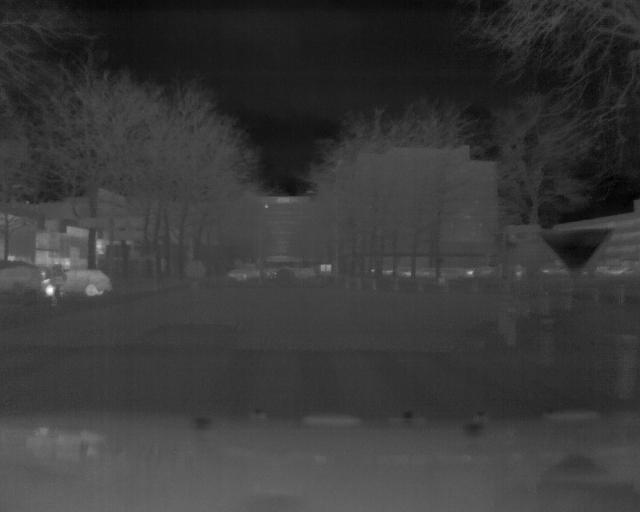car: (70, 268, 111, 296), (2, 265, 38, 296)
person: (49, 263, 67, 303)
